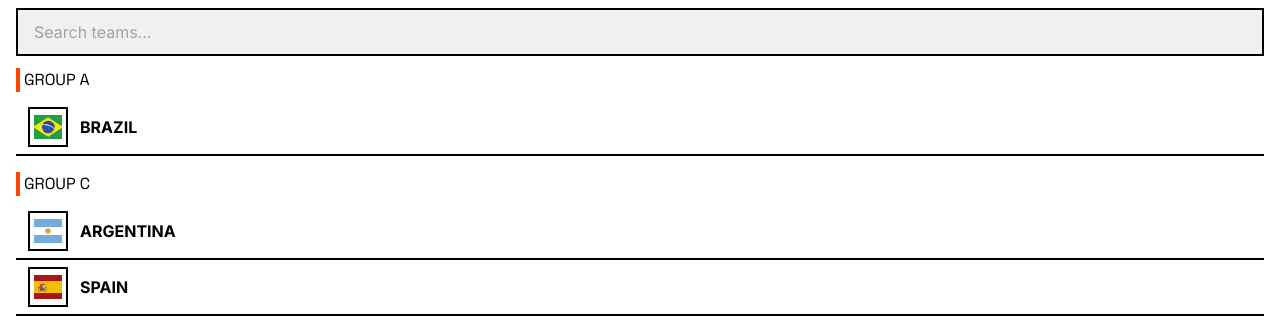
TeamPickerList › filters by search
The width and height of the screenshot is (1280, 333).
Step 1. Type "arg" into the field with placeholder "Search teams..." → (640, 32), box [16,8,1264,56]
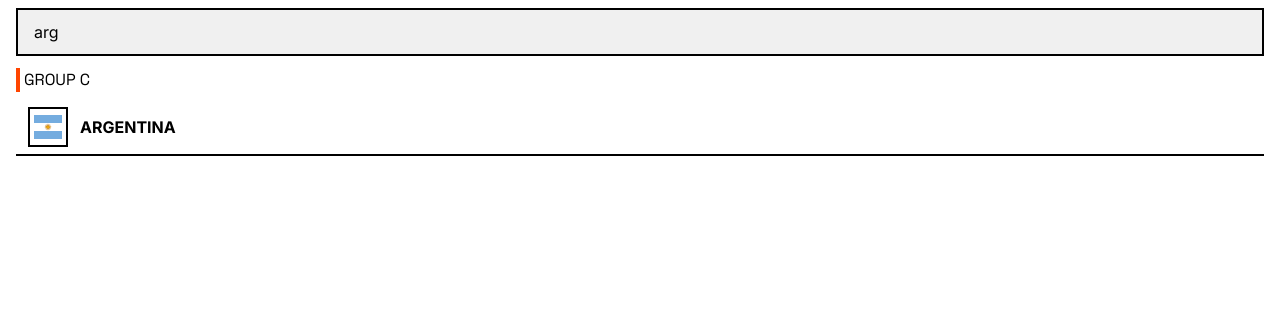
expect the text "Argentina" is shown: met, box [80,115,176,139]
expect the button "Spain" is gone: met
